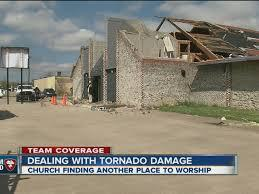sagging_roof: (160, 9, 259, 69)
